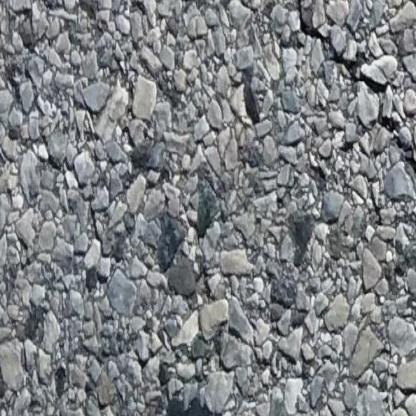Cracks: (290, 0, 416, 192)
